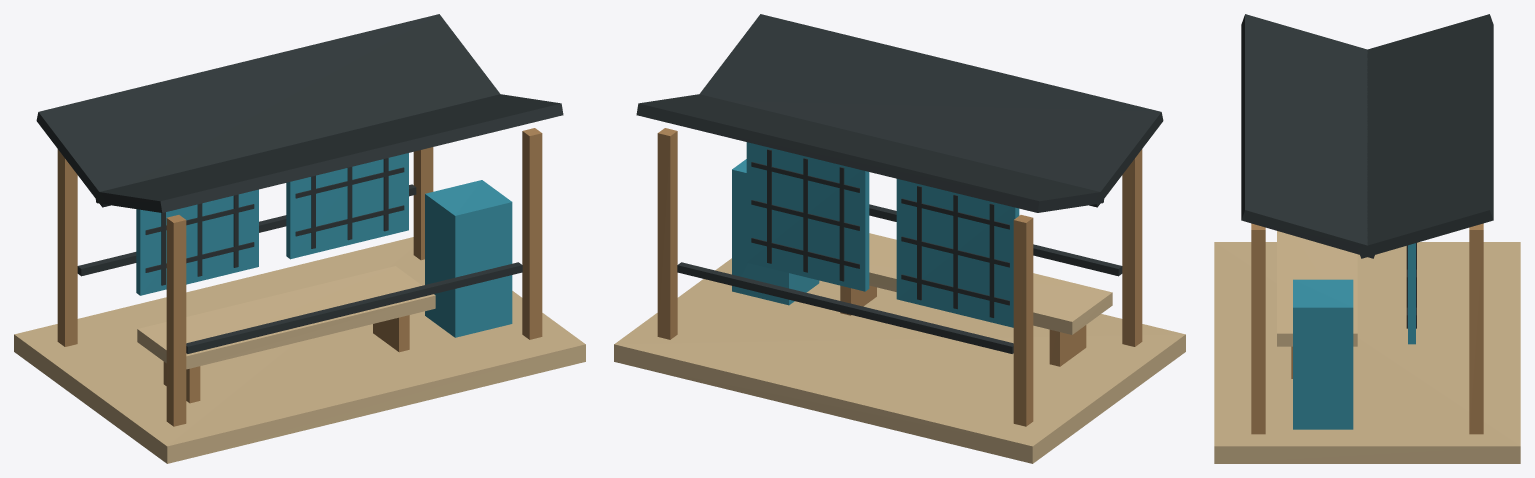
The model's file is net-station.source.glb.
3 views of the same model, side by side, from view 1: azimuth 30°, elevation 25°; view 2: azimuth 150°, elevation 25°; view 3: azimuth 270°, elevation 25° (orthographic).
Visible parts, largest first — view 1: net-station-grounded-net-station-slab-mesh, net-station-shallow-pitched-roof--0.72-mesh, net-station-shallow-pitched-roof-0.72-mesh, net-station-locked-gear-cabinet-mesh, net-station-narrow-repair-bench-mesh, net-station-rigid-teal-lattice-panel-1-mesh, net-station-rigid-teal-lattice-panel--1.15-mesh, net-station-slim-timber-post-2.55-1.35-mesh, net-station-slim-timber-post--2.55-1.35-mesh, net-station-simple-side-rail-1.32-mesh, net-station-slim-timber-post--2.55--1.35-mesh, net-station-slim-timber-post-2.55--1.35-mesh (+5 smaller); view 2: net-station-grounded-net-station-slab-mesh, net-station-shallow-pitched-roof-0.72-mesh, net-station-shallow-pitched-roof--0.72-mesh, net-station-rigid-teal-lattice-panel-1-mesh, net-station-rigid-teal-lattice-panel--1.15-mesh, net-station-narrow-repair-bench-mesh, net-station-slim-timber-post-2.55--1.35-mesh, net-station-slim-timber-post--2.55--1.35-mesh, net-station-simple-side-rail--1.32-mesh, net-station-slim-timber-post--2.55-1.35-mesh, net-station-locked-gear-cabinet-mesh, net-station-simple-side-rail-1.32-mesh (+7 smaller); view 3: net-station-grounded-net-station-slab-mesh, net-station-shallow-pitched-roof--0.72-mesh, net-station-shallow-pitched-roof-0.72-mesh, net-station-locked-gear-cabinet-mesh, net-station-narrow-repair-bench-mesh, net-station-slim-timber-post-2.55--1.35-mesh, net-station-slim-timber-post-2.55-1.35-mesh, net-station-rigid-teal-lattice-panel-1-mesh.
Part boxes in pixels (box(x1,y1,x2,y2)): net-station-grounded-net-station-slab-mesh: box(14, 237, 585, 463); net-station-shallow-pitched-roof--0.72-mesh: box(36, 14, 500, 207); net-station-shallow-pitched-roof-0.72-mesh: box(94, 94, 563, 212); net-station-locked-gear-cabinet-mesh: box(425, 180, 512, 337); net-station-narrow-repair-bench-mesh: box(137, 266, 435, 369); net-station-rigid-teal-lattice-panel-1-mesh: box(286, 153, 408, 259); net-station-rigid-teal-lattice-panel--1.15-mesh: box(136, 189, 258, 295); net-station-slim-timber-post-2.55-1.35-mesh: box(522, 128, 542, 339); net-station-slim-timber-post--2.55-1.35-mesh: box(166, 215, 186, 426); net-station-simple-side-rail-1.32-mesh: box(186, 262, 522, 353); net-station-slim-timber-post--2.55--1.35-mesh: box(57, 149, 77, 346); net-station-slim-timber-post-2.55--1.35-mesh: box(413, 147, 433, 260); net-station-grounded-net-station-slab-mesh: box(614, 258, 1185, 463); net-station-shallow-pitched-roof-0.72-mesh: box(699, 14, 1163, 207); net-station-shallow-pitched-roof--0.72-mesh: box(636, 94, 1105, 212); net-station-rigid-teal-lattice-panel-1-mesh: box(746, 142, 869, 291); net-station-rigid-teal-lattice-panel--1.15-mesh: box(896, 179, 1019, 327); net-station-narrow-repair-bench-mesh: box(869, 233, 1112, 334); net-station-slim-timber-post-2.55--1.35-mesh: box(657, 128, 677, 339); net-station-slim-timber-post--2.55--1.35-mesh: box(1013, 215, 1033, 426); net-station-simple-side-rail--1.32-mesh: box(677, 262, 1013, 353); net-station-slim-timber-post--2.55-1.35-mesh: box(1122, 149, 1142, 346); net-station-locked-gear-cabinet-mesh: box(732, 159, 819, 305); net-station-simple-side-rail-1.32-mesh: box(869, 204, 1122, 276); net-station-grounded-net-station-slab-mesh: box(1214, 242, 1520, 463); net-station-shallow-pitched-roof--0.72-mesh: box(1358, 14, 1493, 258); net-station-shallow-pitched-roof-0.72-mesh: box(1241, 14, 1376, 258); net-station-locked-gear-cabinet-mesh: box(1293, 279, 1353, 429); net-station-narrow-repair-bench-mesh: box(1277, 231, 1357, 346); net-station-slim-timber-post-2.55--1.35-mesh: box(1469, 224, 1483, 434); net-station-slim-timber-post-2.55-1.35-mesh: box(1251, 224, 1265, 434); net-station-rigid-teal-lattice-panel-1-mesh: box(1408, 243, 1415, 344).
Bounding box in the file's own units: 6 × 3.41 × 3.8.
